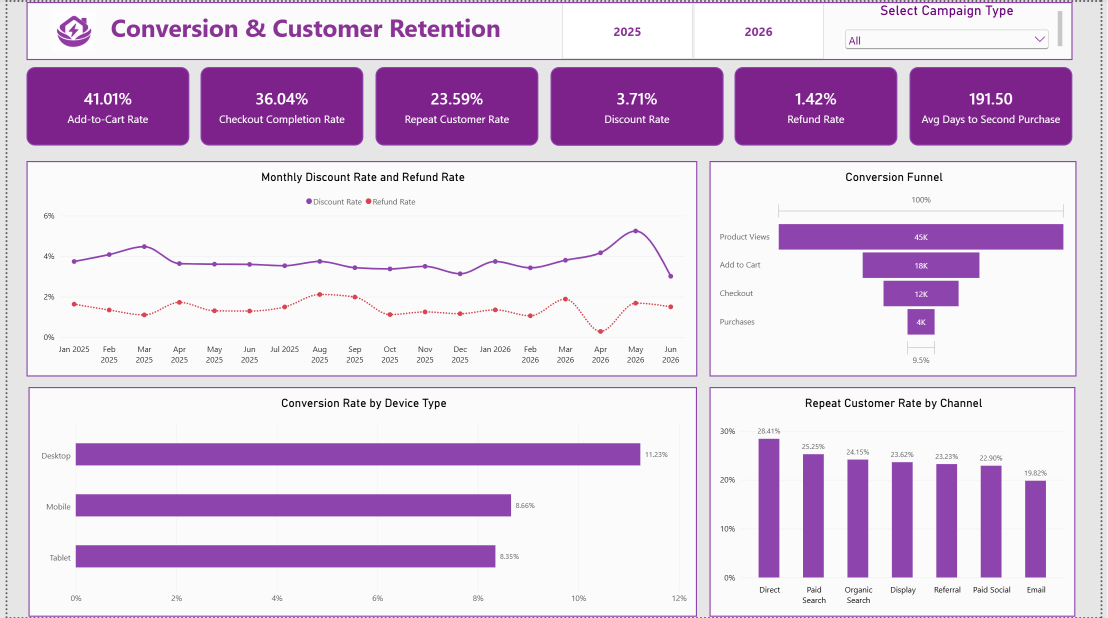

The page's visual inventory and layout, read from the dashboard file:
{"tool":"powerbi","page":{"name":"Conversion and customer retention","canvas":[1920,1080],"ordinal":2},"visuals":[{"type":"textbox","box":[33.4,0,1836.9,101.9],"z":0},{"type":"card","fields":{"Values":["Measures Table.Add-to-Cart Rate"]},"box":[32.5,114.7,286,138],"z":1000},{"type":"slicer","fields":{"Values":["DateTable.Year"]},"box":[870.1,0,583,101.9],"z":2000},{"type":"card","fields":{"Values":["Measures Table.Repeat Customer Rate"]},"box":[646,114.1,286,138],"z":3000},{"type":"card","fields":{"Values":["Measures Table.Discount Rate"]},"box":[952.7,114.1,303.8,138.7],"z":4000},{"type":"card","fields":{"Values":["Measures Table.Refund Rate"]},"box":[1277.3,114.1,286,138],"z":5000},{"type":"card","fields":{"Values":["Measures Table.Average Days to Second Purchase"]},"box":[1584,114.1,286,138],"z":6000},{"type":"clusteredBarChart","title":"Conversion Rate by Device Type","fields":{"Category":["Vsch website_sessions.device_type"],"Y":["Measures Table.Session-to-Purchase Rate"]},"box":[36.3,677,1174.2,403.5],"z":7000},{"type":"clusteredColumnChart","title":"Repeat Customer Rate by Channel","fields":{"Category":["Vsch customer_summary.channel"],"Y":["Measures Table.Repeat Customer Rate"]},"box":[1233.5,677,642.5,403.5],"z":8000},{"type":"funnel","title":"Conversion Funnel","fields":{"Category":["Funnel Stages.Stage"],"Y":["Measures Table.Funnel Value"]},"box":[1233.5,279.2,644.5,378.6],"z":9000},{"type":"lineChart","title":"Monthly Discount Rate and Refund Rate ","fields":{"Category":["DateTable.Month Label"],"Y":["Measures Table.Discount Rate","Measures Table.Refund Rate"]},"box":[32.5,279.2,1178,378.6],"z":10000},{"type":"card","fields":{"Values":["Measures Table.Checkout Completion Rate"]},"box":[339.2,114.7,286,138],"z":11000},{"type":"slicer","title":"Select Campaign Type","fields":{"Values":["Vsch campaigns.channel"]},"box":[1466.3,0,367,101.9],"z":13000}]}

Visuals, with their boxes in screenshot pixels (x1, y1, x2, y2), scaled from the page's 1920x1080 canvas onto the 1108x618 screenshot:
textbox: 19,0,1079,58
card - Measures Table.Add-to-Cart Rate: 19,66,184,145
slicer - DateTable.Year: 502,0,839,58
card - Measures Table.Repeat Customer Rate: 373,65,538,144
card - Measures Table.Discount Rate: 550,65,725,145
card - Measures Table.Refund Rate: 737,65,902,144
card - Measures Table.Average Days to Second Purchase: 914,65,1079,144
"Conversion Rate by Device Type" clusteredBarChart: 21,387,699,617
"Repeat Customer Rate by Channel" clusteredColumnChart: 712,387,1083,617
"Conversion Funnel" funnel: 712,160,1084,376
"Monthly Discount Rate and Refund Rate " lineChart: 19,160,699,376
card - Measures Table.Checkout Completion Rate: 196,66,361,145
"Select Campaign Type" slicer: 846,0,1058,58
